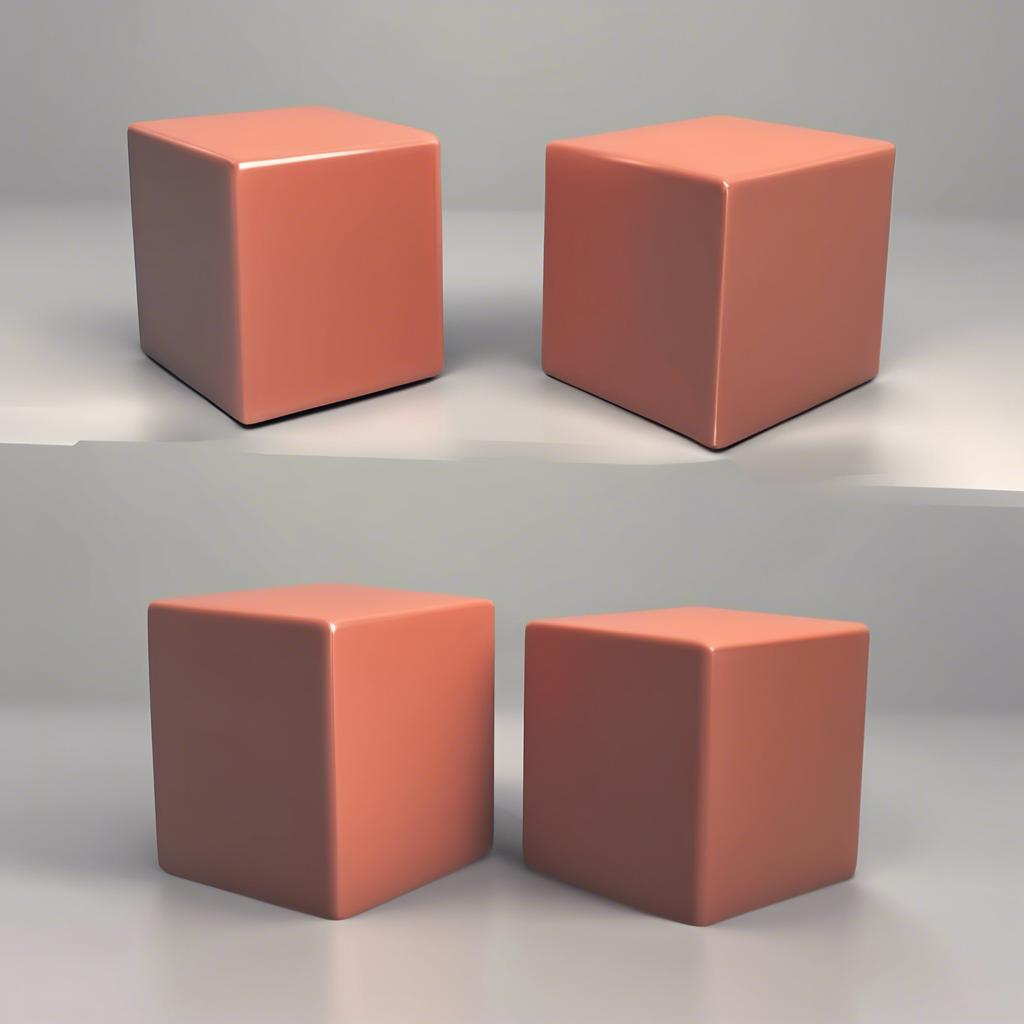cube: (540, 112, 895, 451), (146, 580, 495, 920), (522, 603, 870, 926), (126, 103, 444, 427)
